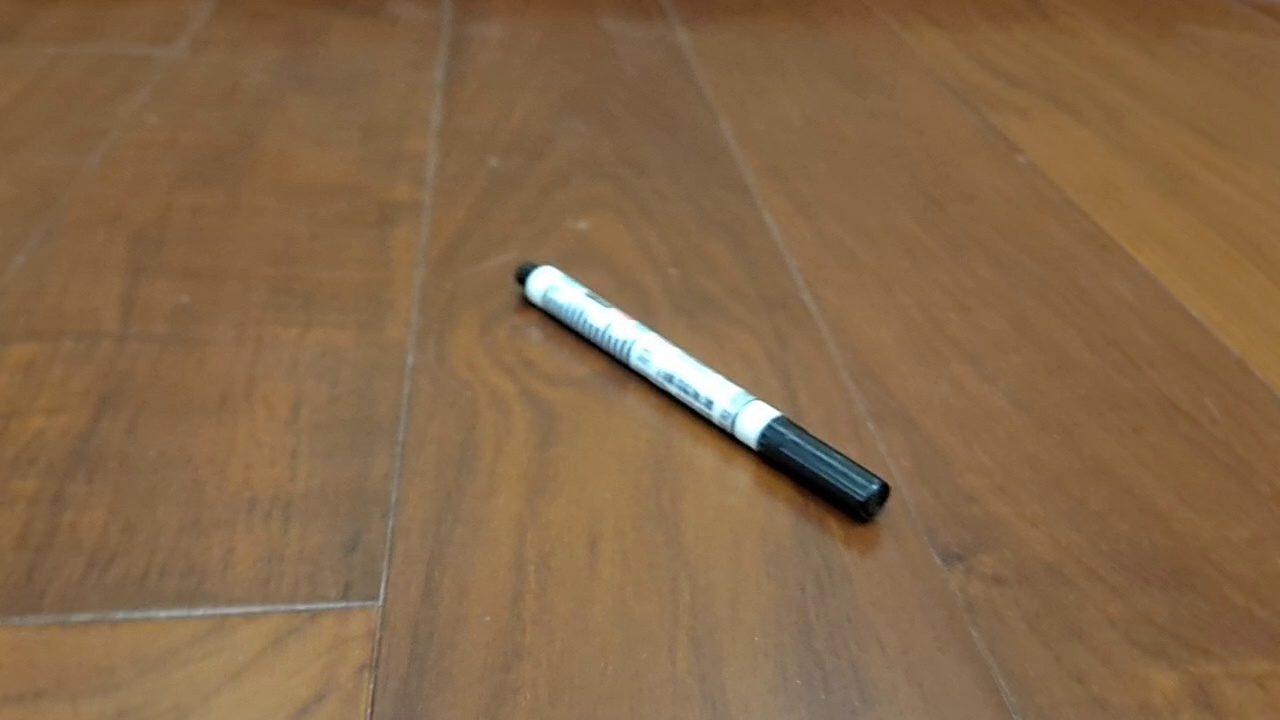pen: (512, 258, 892, 526)
